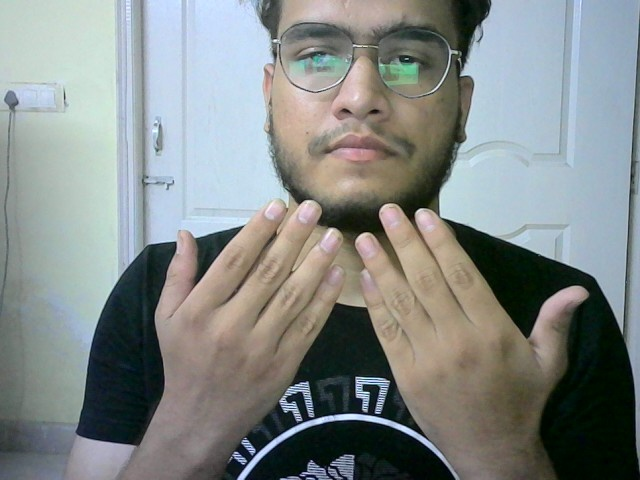Thank You: (148, 200, 592, 435)
